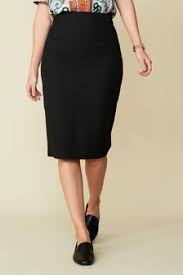F_tailored skirt: (40, 7, 125, 165)
